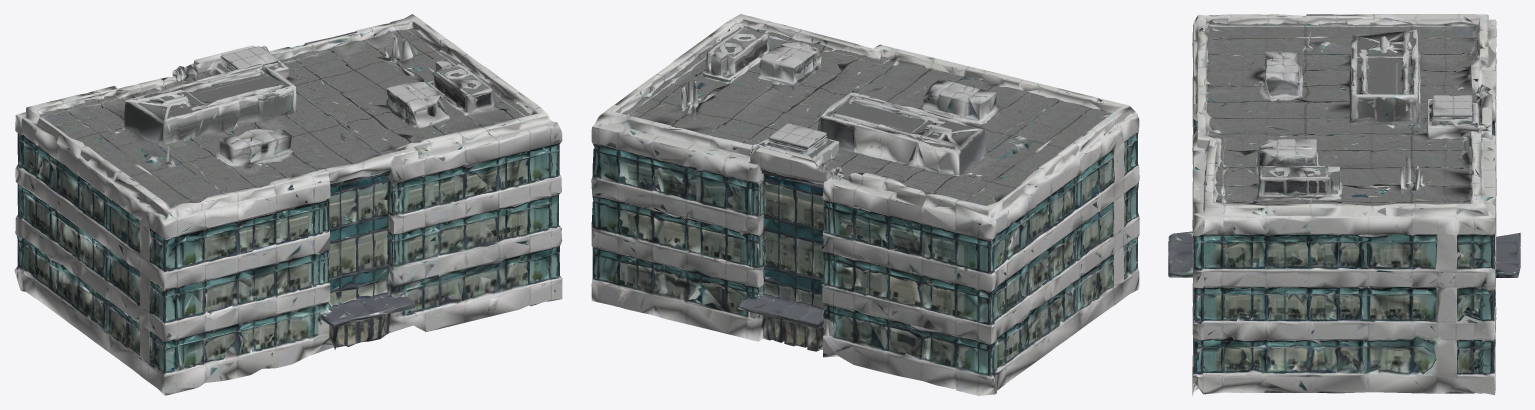
Rendered from rd-building-lod.glb.
The picture shows the model from 3 angles, left to right: view 1: azimuth 30°, elevation 25°; view 2: azimuth 150°, elevation 25°; view 3: azimuth 270°, elevation 25°; orthographic projection. The views are drawn at different scales.
Size of the model in its own units: 1.9 by 0.9245 by 1.42.
Materials: 1 (1 with a texture image).
